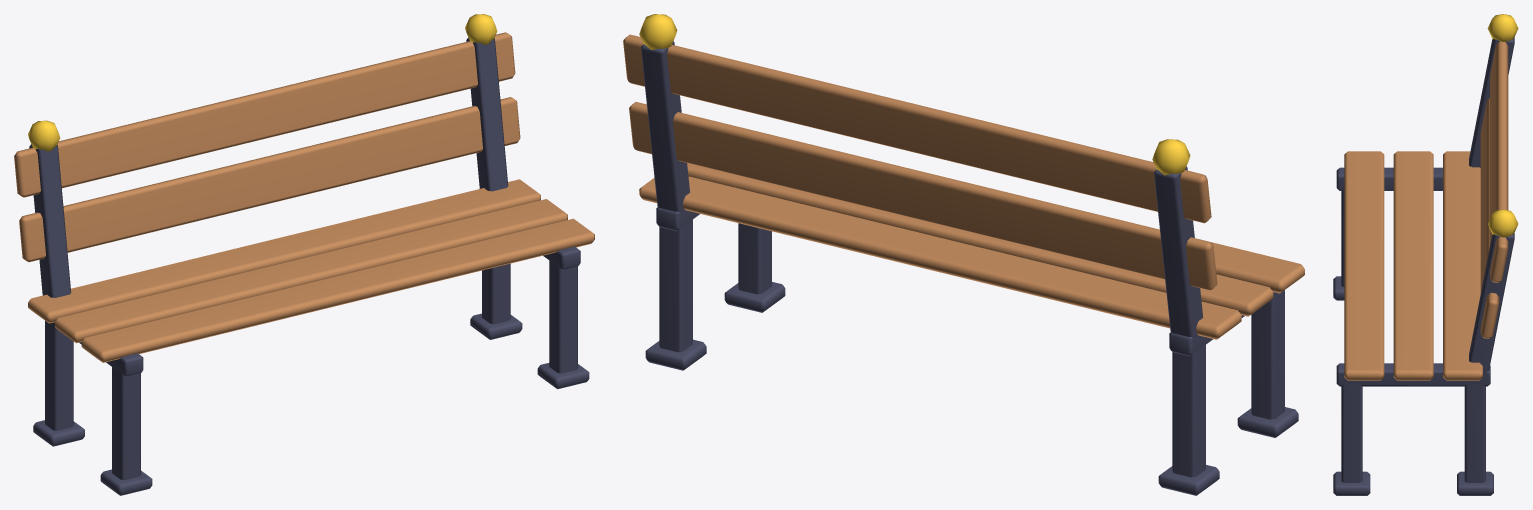
Rendered from bench.glb.
The picture shows the model from 3 angles, left to right: view 1: azimuth 30°, elevation 25°; view 2: azimuth 150°, elevation 25°; view 3: azimuth 270°, elevation 25°; orthographic projection. The views are drawn at different scales.
Parts seen in each view (by area): view 1: Bench.001; view 2: Bench.001; view 3: Bench.001.
Part boxes in pixels (x1=…): Bench.001: x1=14, y1=14, x2=594, y2=495; Bench.001: x1=623, y1=14, x2=1304, y2=495; Bench.001: x1=1333, y1=14, x2=1518, y2=495.
Bounding box in the file's own units: 1.7 × 1 × 0.6.
